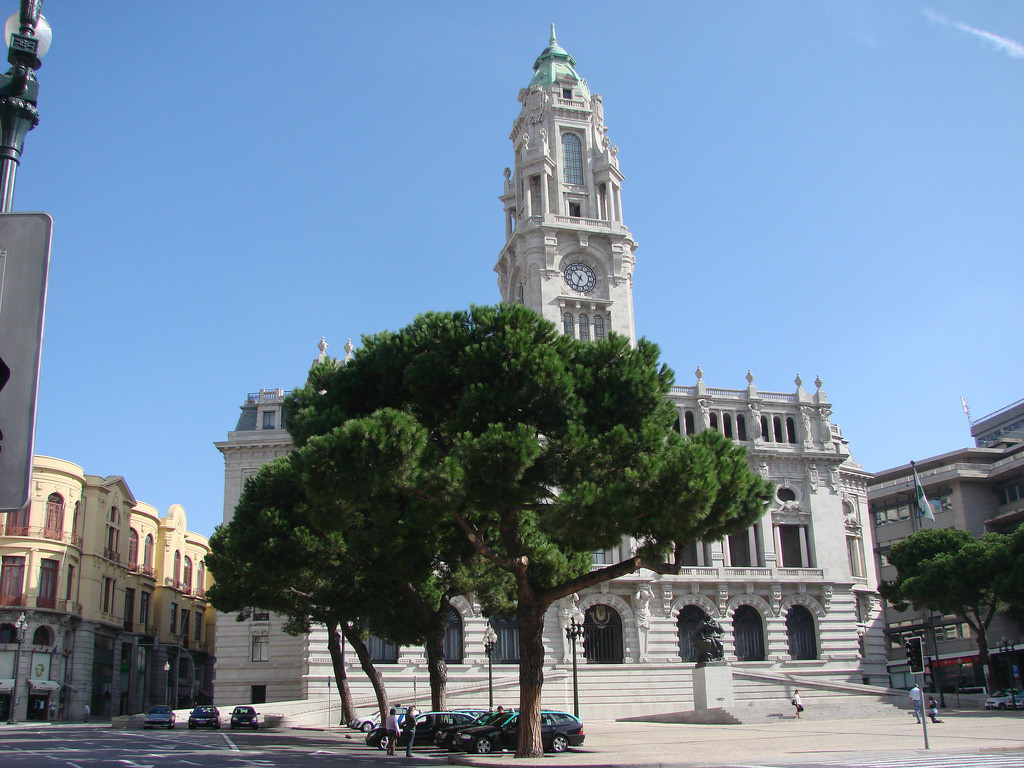camara: (211, 20, 895, 711)
